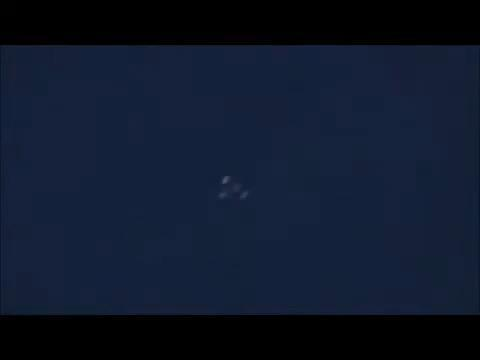Plane: (191, 167, 274, 214)
